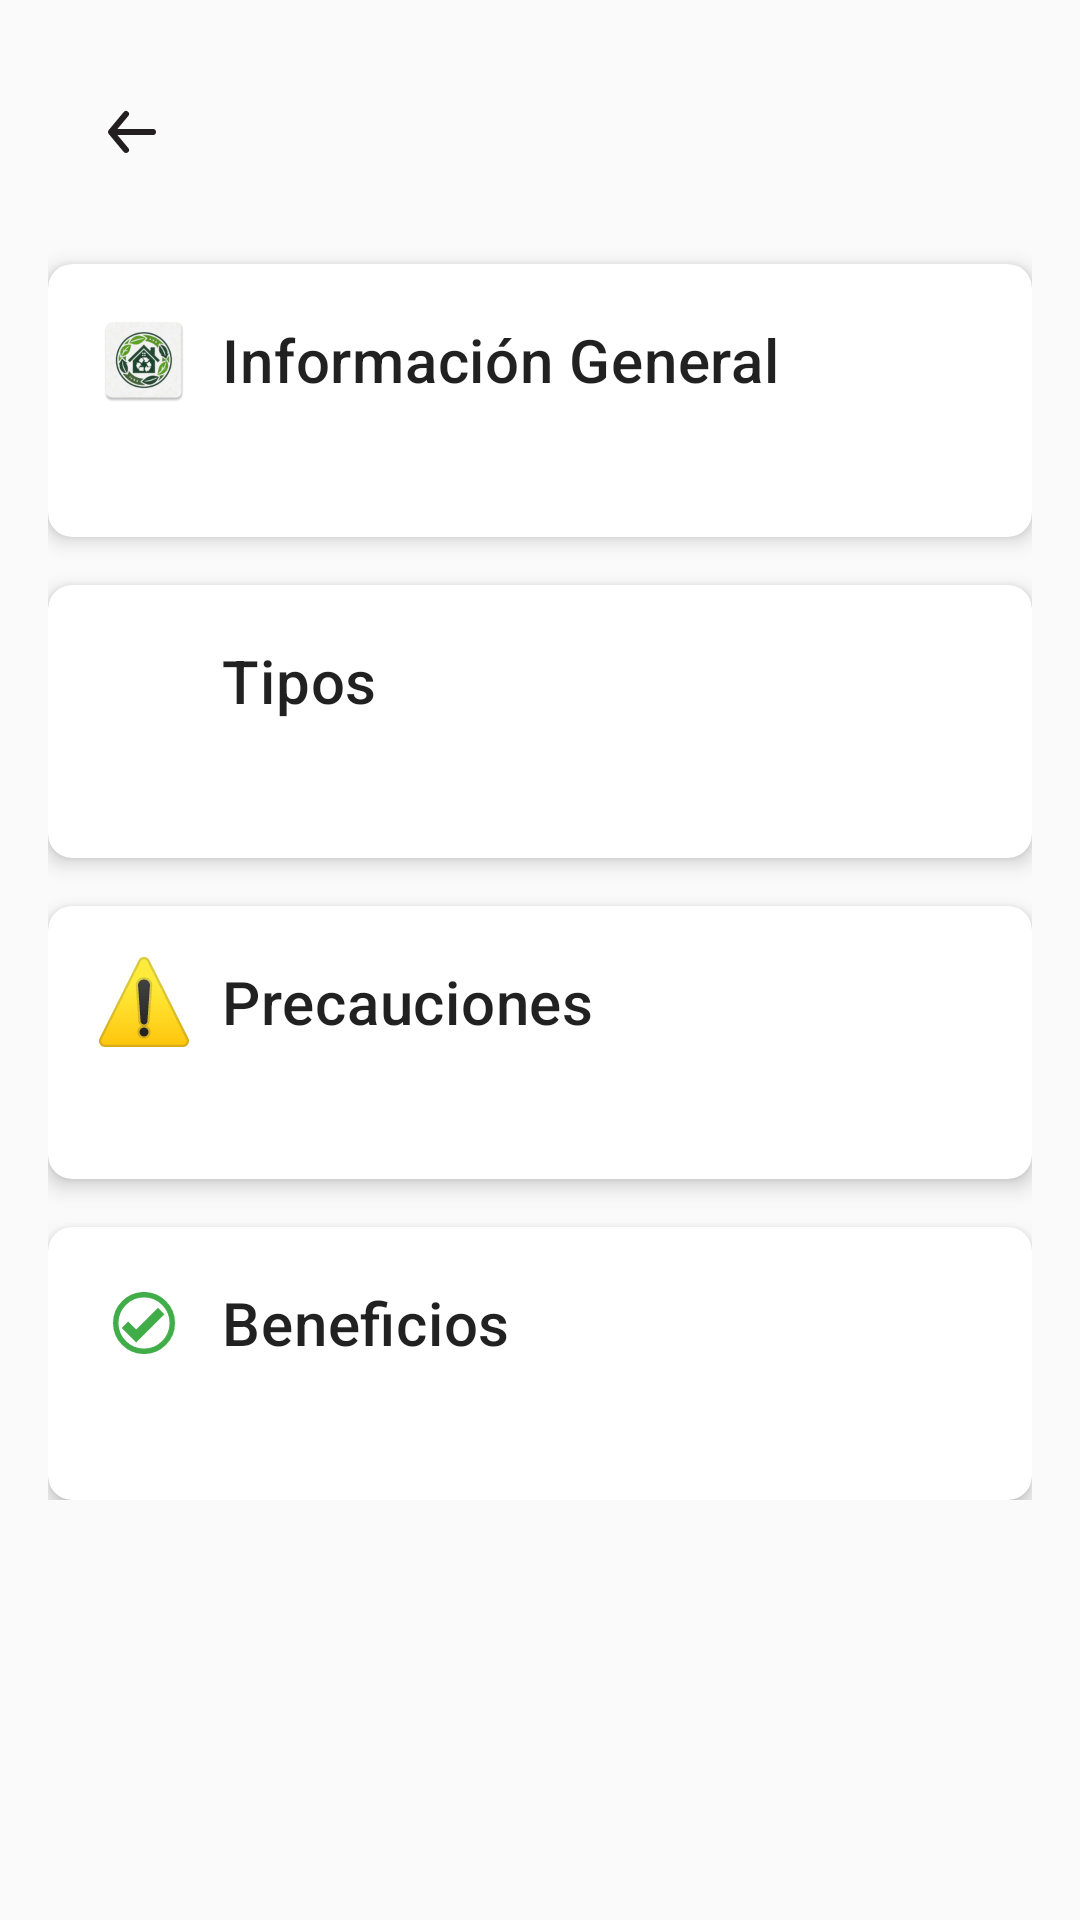

Point at icon controls on the screen. Image size 1080w x 1920h, points as (x,y).
check circle: (144,1323)
warning: (144,1002)
